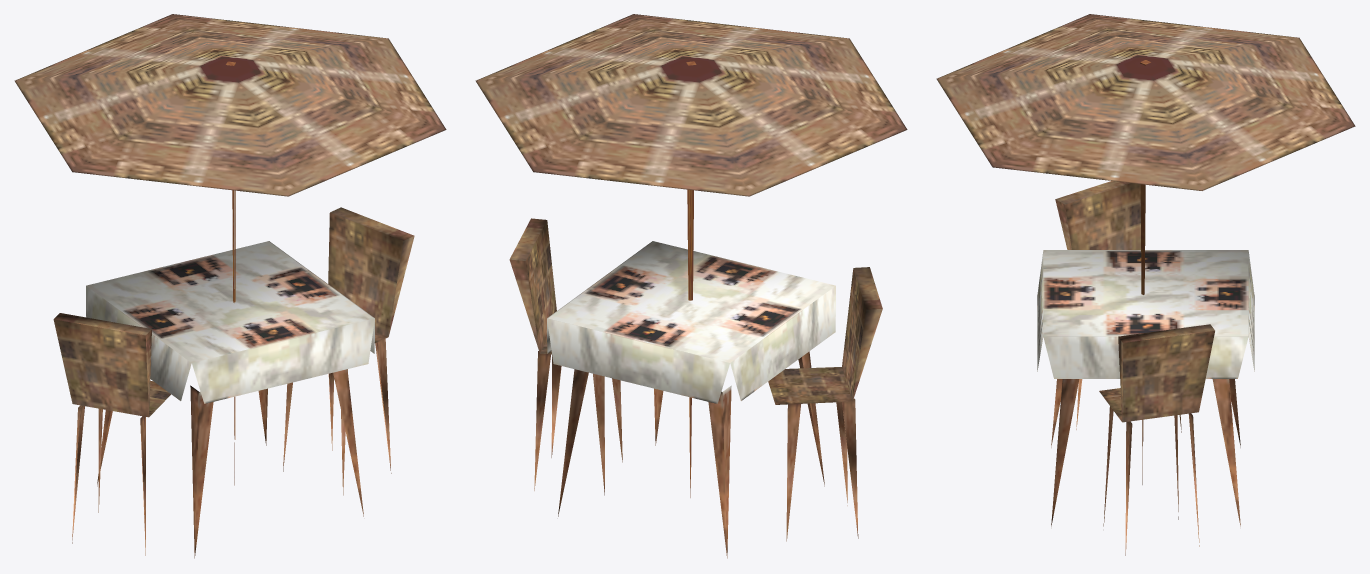
The model's file is Environment - Prop - Sidewalk Cafe Set - PMcafeset.glb.
The picture shows the model from 3 angles, left to right: view 1: azimuth 30°, elevation 25°; view 2: azimuth 150°, elevation 25°; view 3: azimuth 270°, elevation 25°; orthographic projection. The views are drawn at different scales.
Visible parts, largest first — view 1: PMCAFESET; view 2: PMCAFESET; view 3: PMCAFESET.
Boxes of the visible parts, box(x1,y1,x2,y2) form: PMCAFESET: box(14, 14, 446, 558); PMCAFESET: box(475, 14, 907, 558); PMCAFESET: box(936, 14, 1355, 555).
Bounding box in the file's own units: 15.19 × 17.06 × 15.19.
Materials: 1 (1 with a texture image).
